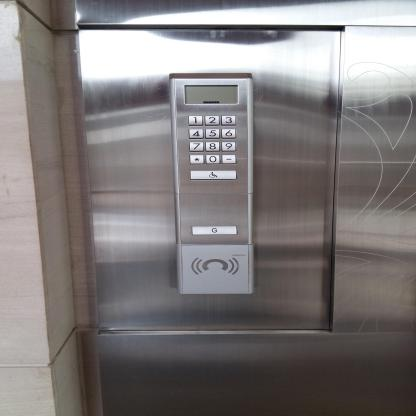-: (221, 153, 237, 165)
0: (205, 154, 220, 165)
1: (187, 115, 203, 126)
2: (204, 115, 220, 126)
3: (220, 115, 236, 126)
4: (188, 128, 204, 139)
5: (204, 128, 220, 140)
6: (220, 128, 236, 139)
7: (188, 141, 204, 152)
8: (204, 142, 220, 152)
9: (221, 141, 236, 152)
CH: (190, 170, 237, 180)
G: (191, 226, 237, 235)
led: (184, 85, 239, 104)
s: (189, 154, 205, 165)
